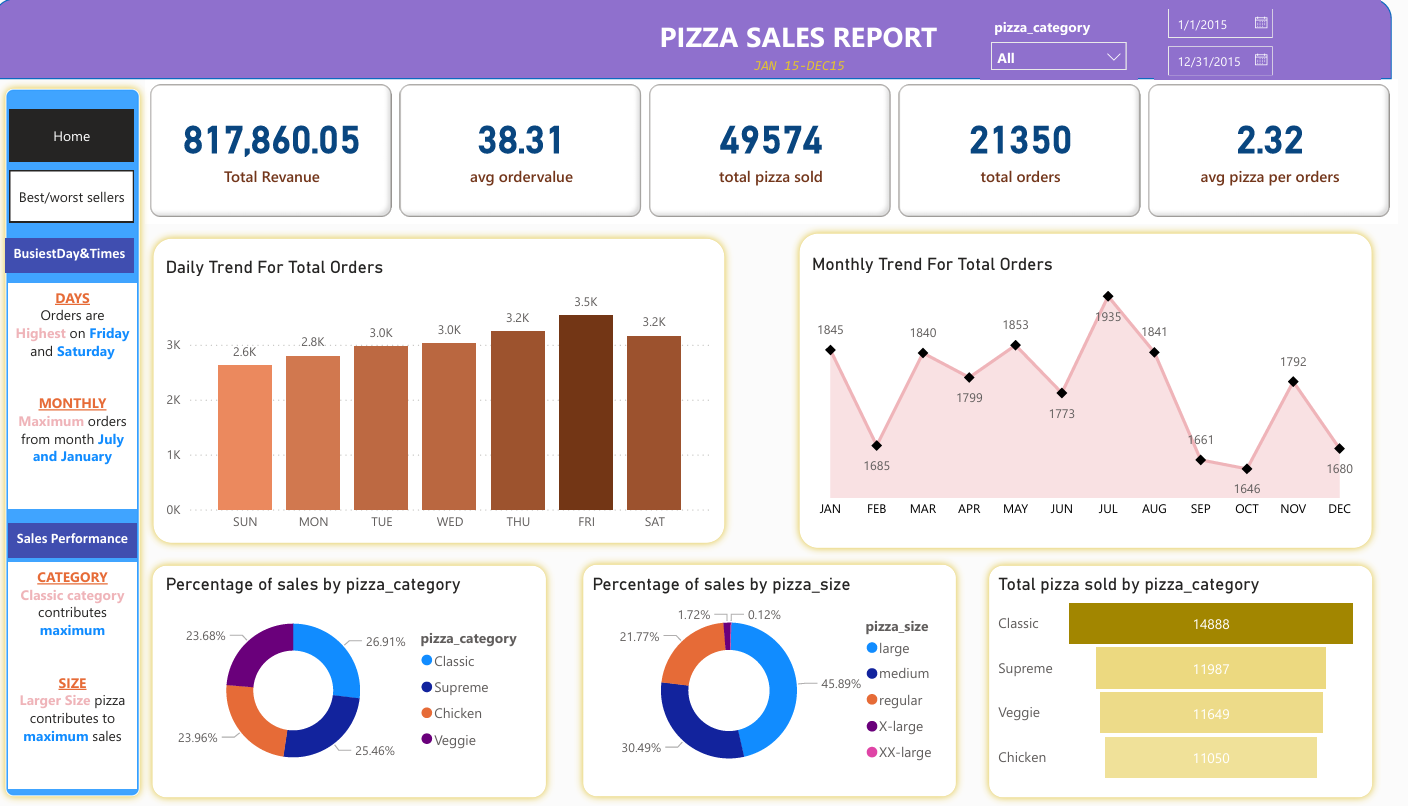

What the dashboard file says about the page in this screenshot:
{"tool":"powerbi","page":{"name":"Home","canvas":[1500,820],"ordinal":0},"visuals":[{"type":"cardVisual","fields":{"Data":["pizza_sales.Total Revanue","pizza_sales.avg ordervalue","pizza_sales.total pizza sold","pizza_sales.total orders","pizza_sales.avg pizza per orders"]},"box":[145.8,118.1,1209.7,138.9],"z":0},{"type":"shape","box":[0,40.3,1350,77.8],"z":1000},{"type":"textbox","box":[500,52.5,553.8,47.5],"z":2000},{"type":"textbox","box":[713.8,90,127.5,56.2],"z":3000},{"type":"shape","box":[146.2,263.8,567.5,310],"z":4000},{"type":"clusteredColumnChart","title":"Daily Trend For Total Orders","fields":{"Y":["pizza_sales.total orders"],"Category":["pizza_sales.orderday"]},"box":[161.2,288.8,535,273.8],"z":5000},{"type":"shape","box":[145,580,396.2,240],"z":6000},{"type":"shape","box":[770,258.8,568.8,320],"z":7000},{"type":"areaChart","title":"Monthly Trend For Total Orders","fields":{"Category":["pizza_sales.order month"],"Y":["pizza_sales.total orders"]},"box":[785,286.2,537.5,265],"z":8000},{"type":"shape","box":[561.2,578.8,376.2,240],"z":9000},{"type":"shape","box":[952.5,580,386.2,240],"z":10000},{"type":"donutChart","title":"Percentage of sales by pizza_category","fields":{"Category":["pizza_sales.pizza_category"],"Y":["pizza_sales.Total Revanue"]},"box":[161.2,596.2,365,206.2],"z":11000},{"type":"donutChart","title":"Percentage of sales by pizza_size","fields":{"Y":["pizza_sales.Total Revanue"],"Category":["pizza_sales.pizza_size"]},"box":[572.5,596.2,353.8,206.2],"z":12000},{"type":"funnel","title":"Total pizza sold by pizza_category","fields":{"Y":["pizza_sales.total pizza sold"],"Category":["pizza_sales.pizza_category"]},"box":[965,596.2,357.5,206.2],"z":13000},{"type":"shape","box":[2.8,119.4,145.8,700],"z":14000},{"type":"textbox","box":[11.1,272.2,123.6,33.3],"z":15000},{"type":"textbox","box":[13.9,315.3,123.6,218.1],"z":16000},{"type":"textbox","box":[13.9,584.7,123.6,218.1],"z":17000},{"type":"textbox","box":[13.9,547.2,123.6,33.3],"z":18000},{"type":"slicer","fields":{"Values":["pizza_sales.pizza_category"]},"box":[952.8,52.8,151.4,65.3],"z":19000},{"type":"slicer","fields":{"Values":["pizza_sales.order_date"]},"box":[1120.8,40.3,218.1,77.8],"z":20000},{"type":"pageNavigator","box":[14.5,146.8,121,50],"z":21000},{"type":"pageNavigator","box":[14.5,206.5,121,50],"z":22000}]}

Visuals, with their boxes on the page's 1500x820 design canvas (x1, y1, x2, y2). These are canvas units, not pixel positions in the 1408x808 screenshot, which may show the page scaled, cropped or inside an application window:
cardVisual - pizza_sales.Total Revanue x pizza_sales.avg ordervalue: detection(146, 118, 1356, 257)
shape: detection(0, 40, 1350, 118)
textbox: detection(500, 52, 1054, 100)
textbox: detection(714, 90, 841, 146)
shape: detection(146, 264, 714, 574)
"Daily Trend For Total Orders" clusteredColumnChart: detection(161, 289, 696, 563)
shape: detection(145, 580, 541, 820)
shape: detection(770, 259, 1339, 579)
"Monthly Trend For Total Orders" areaChart: detection(785, 286, 1322, 551)
shape: detection(561, 579, 937, 819)
shape: detection(952, 580, 1339, 820)
"Percentage of sales by pizza_category" donutChart: detection(161, 596, 526, 802)
"Percentage of sales by pizza_size" donutChart: detection(572, 596, 926, 802)
"Total pizza sold by pizza_category" funnel: detection(965, 596, 1322, 802)
shape: detection(3, 119, 149, 819)
textbox: detection(11, 272, 135, 306)
textbox: detection(14, 315, 138, 533)
textbox: detection(14, 585, 138, 803)
textbox: detection(14, 547, 138, 580)
slicer - pizza_sales.pizza_category: detection(953, 53, 1104, 118)
slicer - pizza_sales.order_date: detection(1121, 40, 1339, 118)
pageNavigator: detection(14, 147, 136, 197)
pageNavigator: detection(14, 206, 136, 256)
